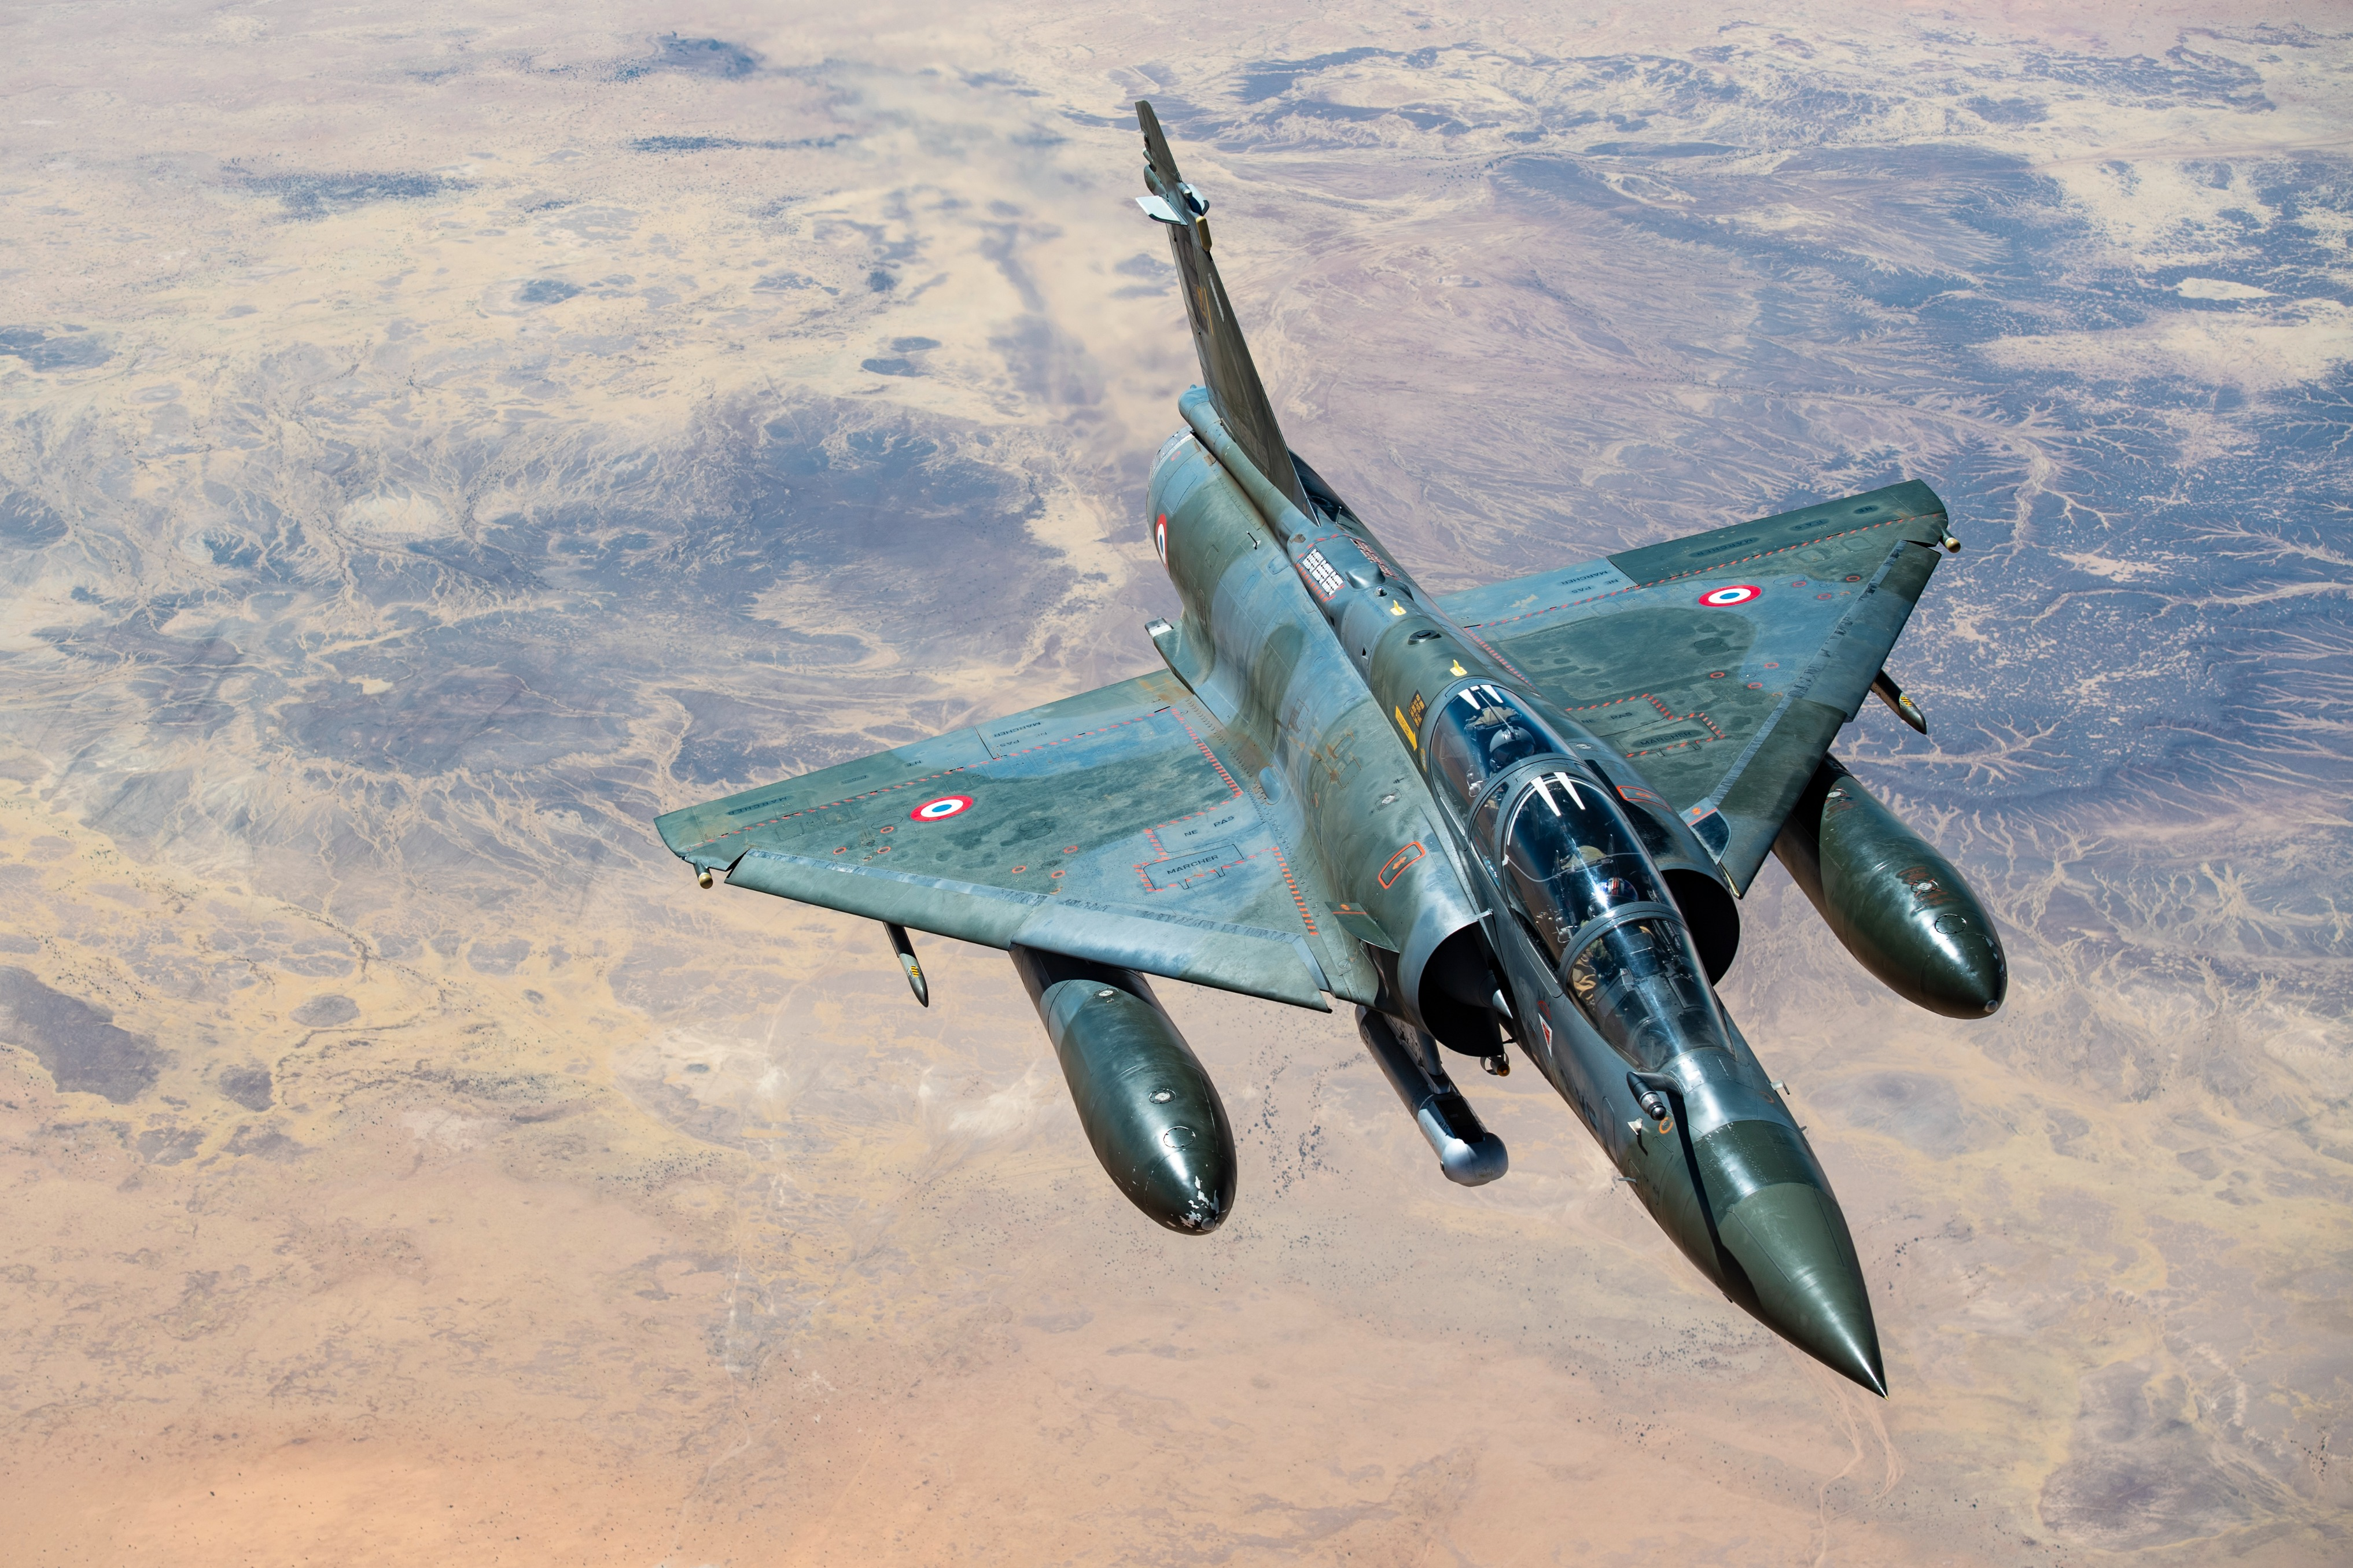Mirage2000: (653, 100, 2008, 1402)
